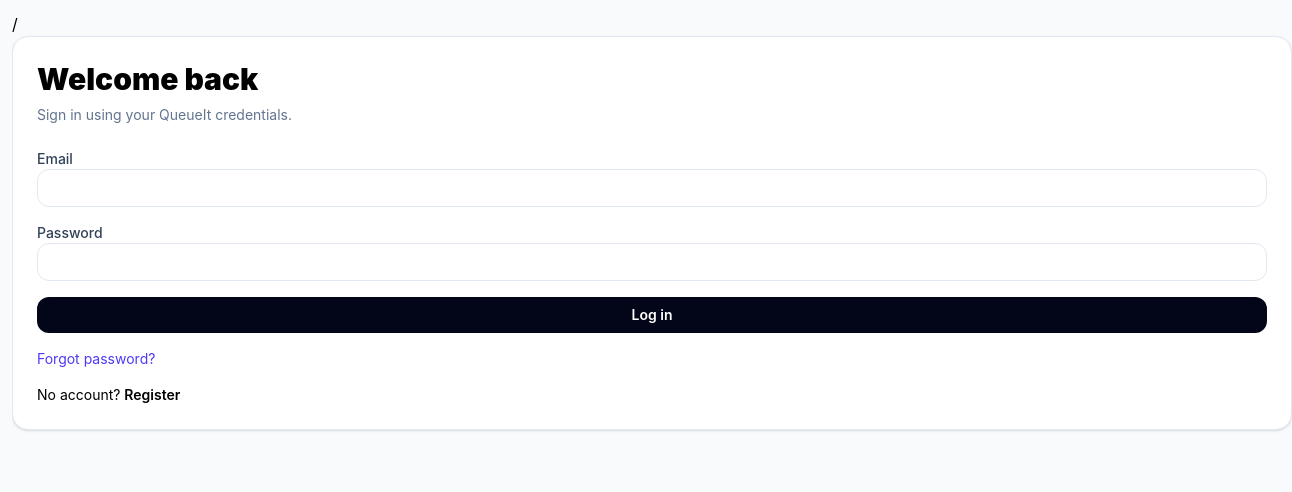
Test: authentication forms › login validates required fields before submitting
The width and height of the screenshot is (1292, 492).
Click the button "Log in": [652, 315] box [37,297,1267,333]
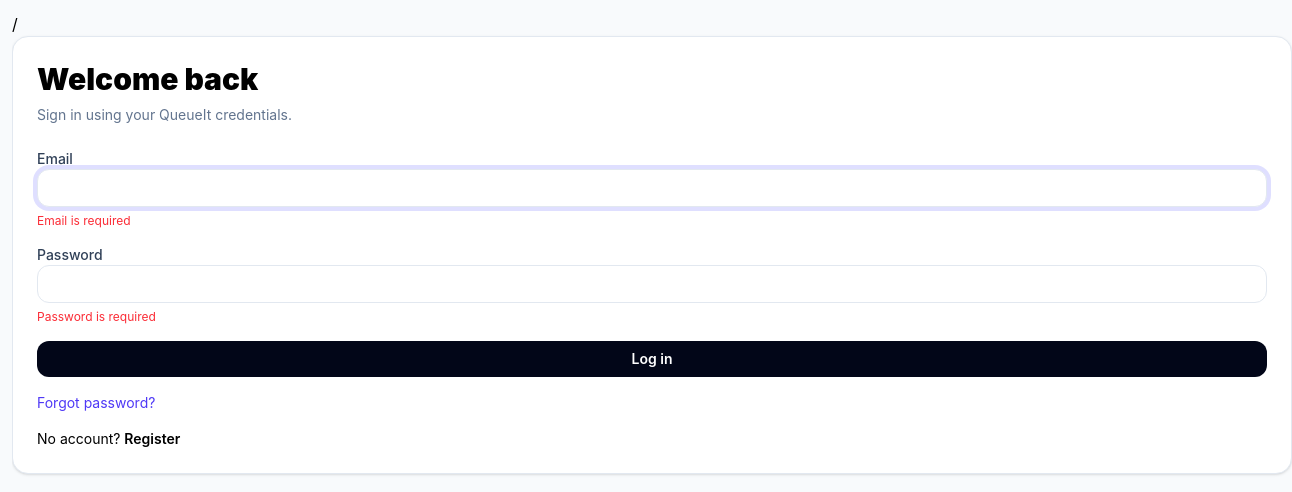
Expected: the text "Email is required" is shown, [37,213,131,228]
Expected: the text "Password is required" is shown, [37,309,156,324]
